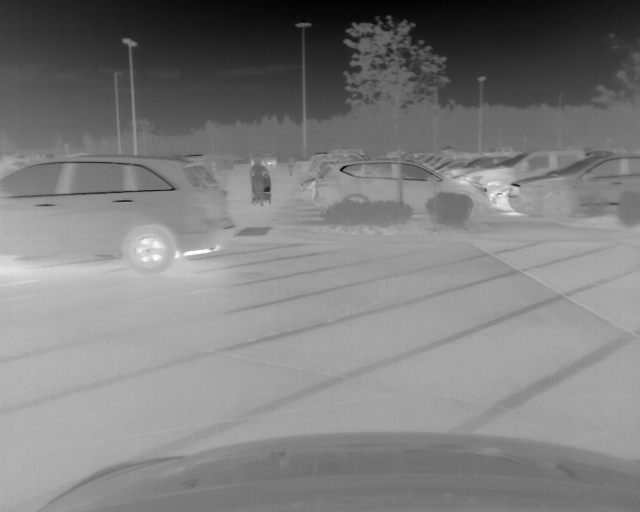car: (2, 153, 237, 271), (315, 156, 489, 221), (508, 151, 640, 218), (462, 148, 595, 213), (251, 152, 278, 166)
people: (249, 160, 271, 207)
